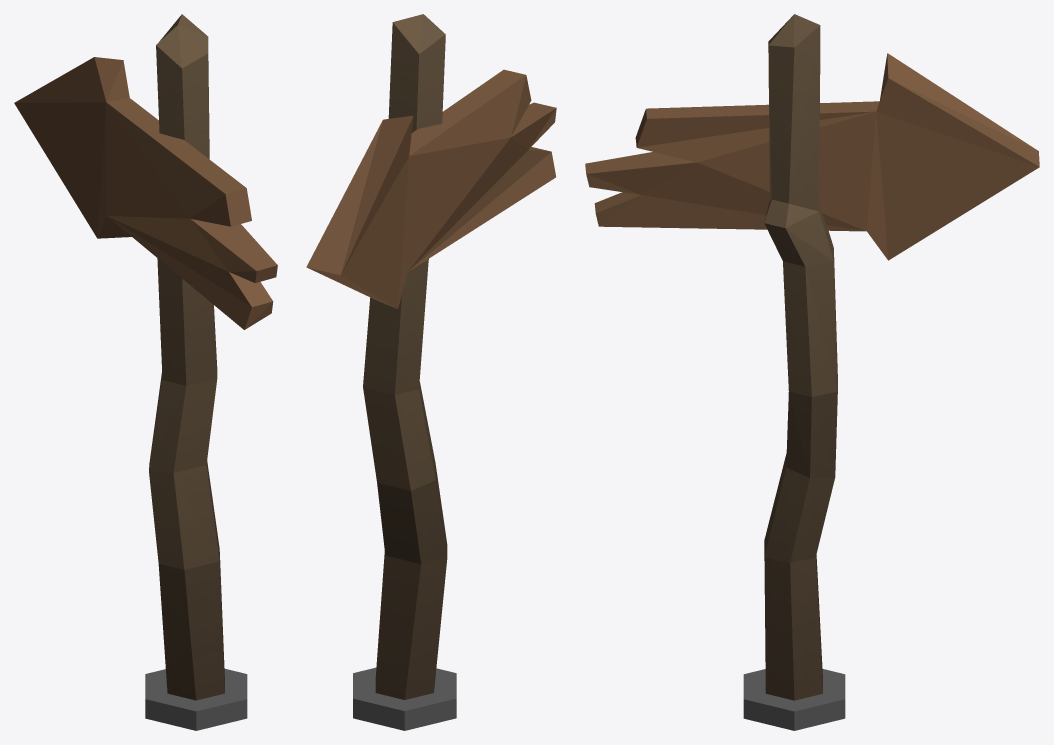
The model's file is ZLP_Build_F_11.FBX.
3 renders of one model, left to right at view 1: azimuth 30°, elevation 25°; view 2: azimuth 150°, elevation 25°; view 3: azimuth 270°, elevation 25°, orthographic.
Parts seen in each view (by area): view 1: ZLP_Build_F_11; view 2: ZLP_Build_F_11; view 3: ZLP_Build_F_11.
Boxes of the visible parts, x1,y1,x2,y2 form: ZLP_Build_F_11: (14,14,277,730); ZLP_Build_F_11: (306,14,556,730); ZLP_Build_F_11: (585,14,1039,730).
Bounding box in the file's own units: 31.16 × 185 × 111.
